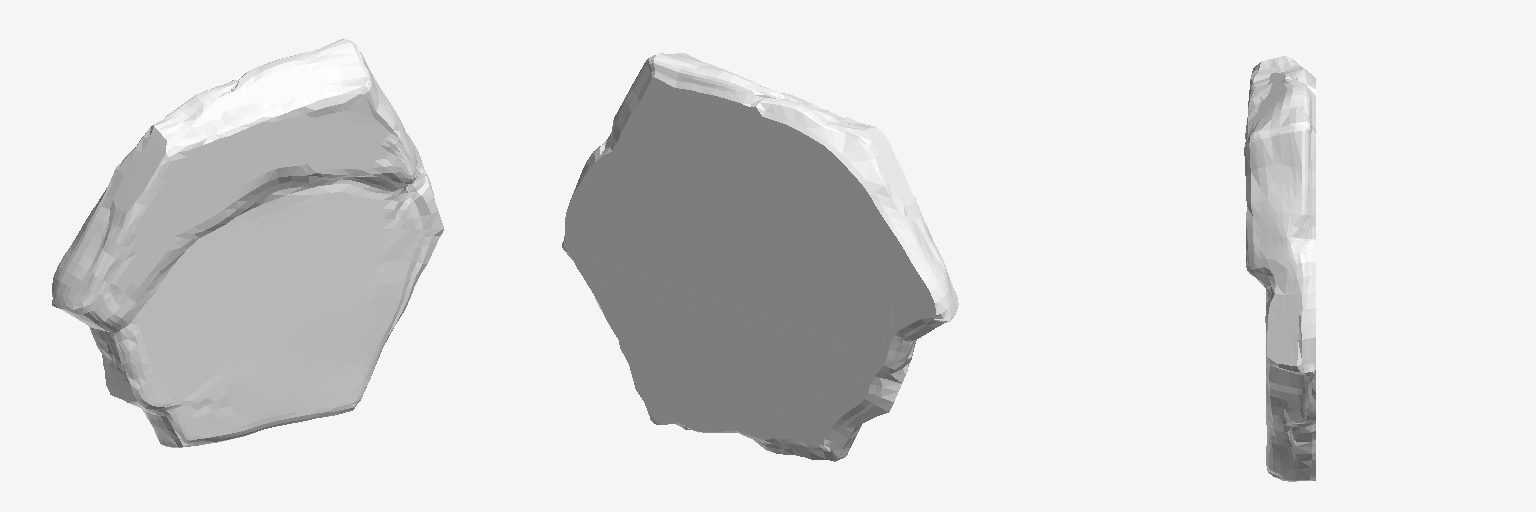
Rendered from rock2.obj.
3 renders of one model, left to right at view 1: azimuth 30°, elevation 25°; view 2: azimuth 150°, elevation 25°; view 3: azimuth 270°, elevation 25°, orthographic.
Parts seen in each view (by area): view 1: Object.1; view 2: Object.1; view 3: Object.1.
Boxes of the visible parts, <box> form: Object.1: <box>52,39,443,447</box>; Object.1: <box>562,53,958,461</box>; Object.1: <box>1244,56,1315,481</box>.
Bounding box in the file's own units: 86.05 × 77.85 × 13.84.